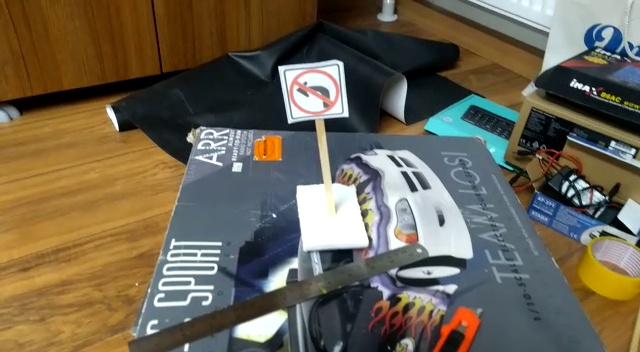sola_donulmez: (289, 66, 340, 118)
